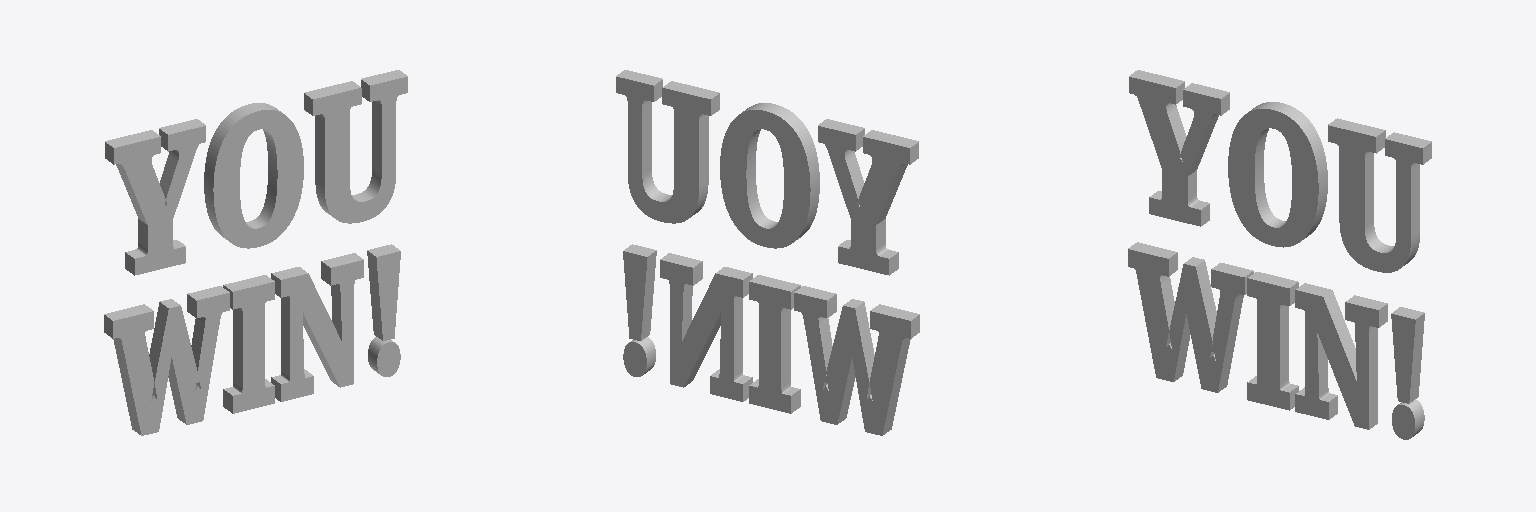
Rendered from you-win.obj.
3 views of the same model, side by side, from view 1: azimuth 30°, elevation 25°; view 2: azimuth 150°, elevation 25°; view 3: azimuth 330°, elevation 25° (orthographic).
Parts seen in each view (by area): view 1: obj_0; view 2: obj_0; view 3: obj_0.
Part boxes in pixels (x1,y1,x2,y2): obj_0: (104, 70, 407, 435); obj_0: (616, 70, 919, 435); obj_0: (1128, 70, 1431, 439).
Bounding box in the file's own units: 182 × 176 × 10.